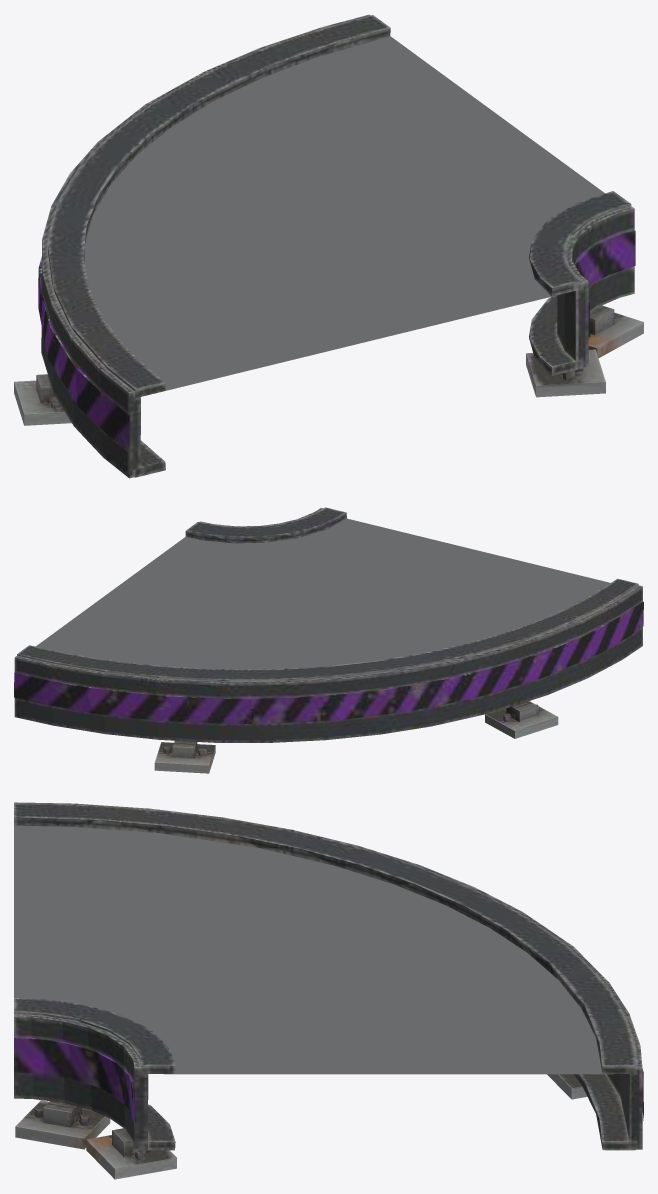
The model's file is esteira_curva_dir_quantica.glb.
3 renders of one model, top to bottom at view 1: azimuth 30°, elevation 25°; view 2: azimuth 150°, elevation 25°; view 3: azimuth 270°, elevation 25°, orthographic. The views are drawn at different scales.
Visible parts, largest first — view 1: esteira_curva_dir_quantica_corpo; view 2: esteira_curva_dir_quantica_corpo; view 3: esteira_curva_dir_quantica_corpo.
Part boxes in pixels (x1,y1,x2,y2): esteira_curva_dir_quantica_corpo: [14, 14, 643, 478]; esteira_curva_dir_quantica_corpo: [14, 507, 643, 773]; esteira_curva_dir_quantica_corpo: [14, 802, 643, 1179].
Size of the model in its own units: 0.841 by 0.168 by 0.841.
2 materials, 1 textured.
